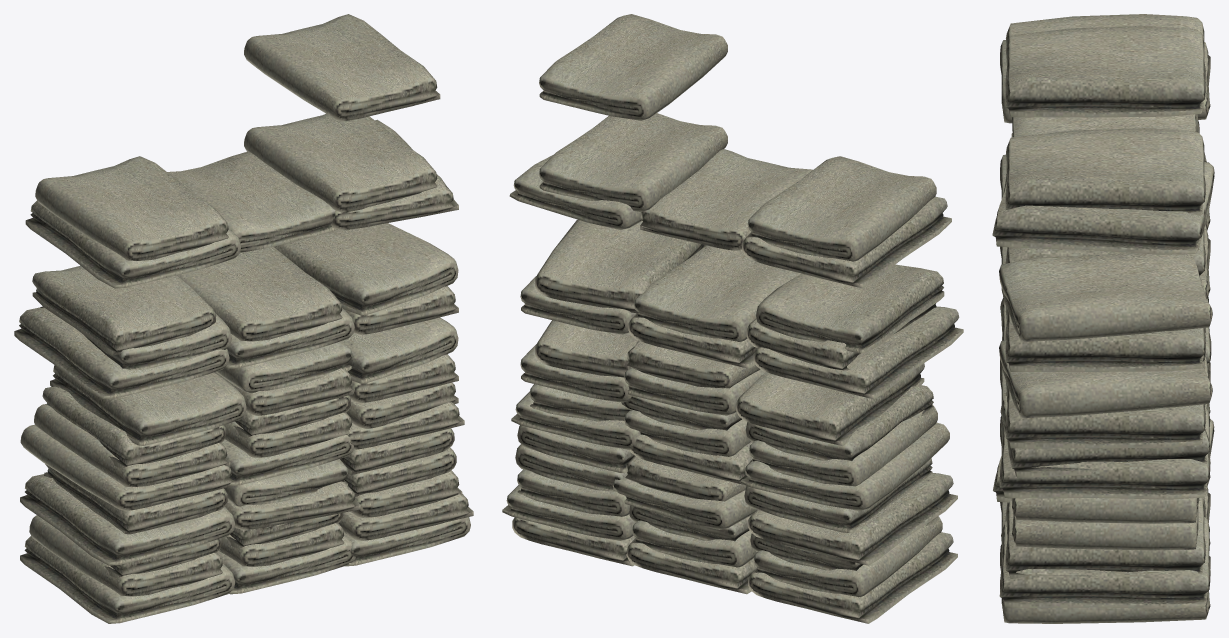
The model's file is sm39_049_steelrackset01a.fbx.
3 renders of one model, left to right at view 1: azimuth 30°, elevation 25°; view 2: azimuth 150°, elevation 25°; view 3: azimuth 270°, elevation 25°, orthographic. The views are drawn at different scales.
Parts seen in each view (by area): view 1: LOD_1_Group_0_Sub_1__sm36_029_BathTowel01A_A_Mat; view 2: LOD_1_Group_0_Sub_1__sm36_029_BathTowel01A_A_Mat; view 3: LOD_1_Group_0_Sub_1__sm36_029_BathTowel01A_A_Mat.
Boxes of the visible parts, box(x1,y1,x2,y2) form: LOD_1_Group_0_Sub_1__sm36_029_BathTowel01A_A_Mat: box(14, 14, 473, 623); LOD_1_Group_0_Sub_1__sm36_029_BathTowel01A_A_Mat: box(502, 14, 963, 623); LOD_1_Group_0_Sub_1__sm36_029_BathTowel01A_A_Mat: box(992, 14, 1214, 623).
Size of the model in its own units: 97.92 by 118 by 44.68.
